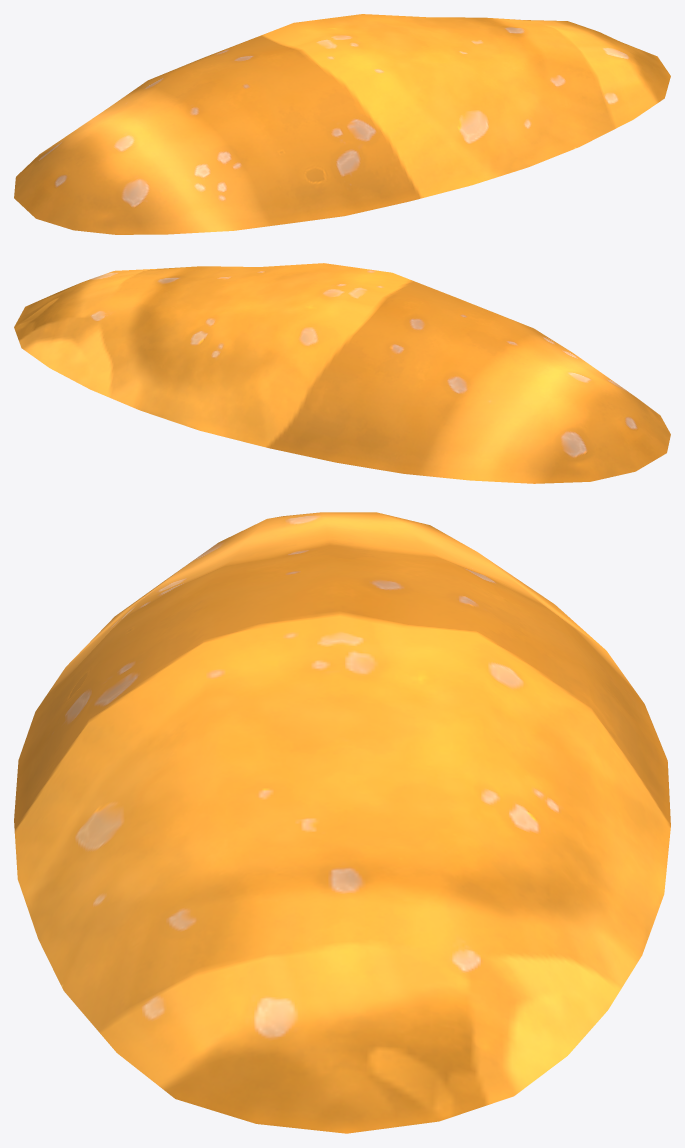
Rendered from SM_Stylized_Tombstone_Dirt.fbx.
3 views of the same model, one above another, from view 1: azimuth 30°, elevation 25°; view 2: azimuth 150°, elevation 25°; view 3: azimuth 270°, elevation 25° (orthographic). The views are drawn at different scales.
Parts seen in each view (by area): view 1: SM_Stylized_Tombstone_Dirt_LOD0; view 2: SM_Stylized_Tombstone_Dirt_LOD0; view 3: SM_Stylized_Tombstone_Dirt_LOD0.
Boxes of the visible parts, left/top/right/bottom form: SM_Stylized_Tombstone_Dirt_LOD0: left=14, top=14, right=670, bottom=234; SM_Stylized_Tombstone_Dirt_LOD0: left=14, top=263, right=670, bottom=483; SM_Stylized_Tombstone_Dirt_LOD0: left=14, top=512, right=670, bottom=1133.
Size of the model in its own units: 229 by 107 by 33.46.
